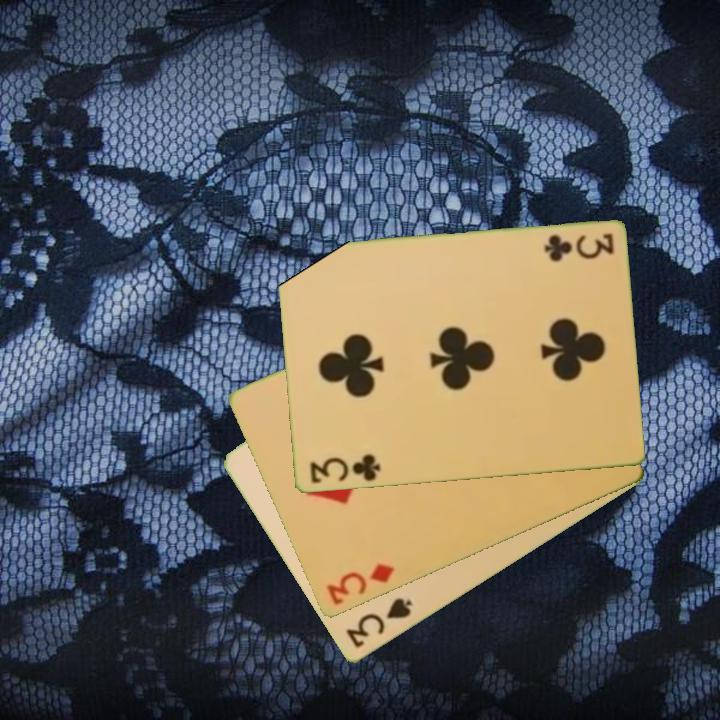3c: (306, 451, 383, 487), (540, 230, 617, 263)
3d: (322, 559, 398, 609)
3s: (342, 594, 415, 652)
